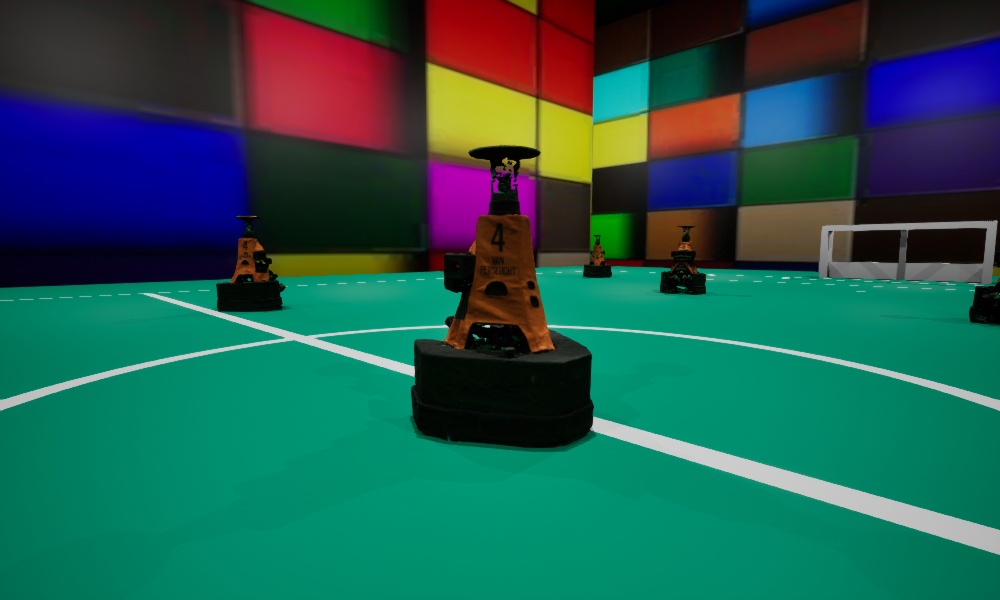o: (411, 145, 593, 447), (216, 216, 285, 311), (660, 226, 705, 293), (969, 251, 999, 323), (583, 235, 611, 277)
